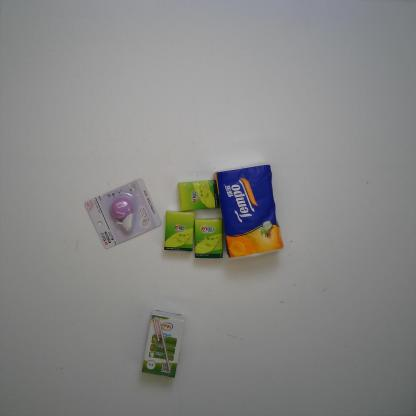Milk: (141, 308, 186, 378)
Stationery: (85, 176, 162, 249)
Tissue: (214, 163, 284, 259), (178, 179, 221, 212), (194, 218, 224, 260), (164, 210, 194, 252)
